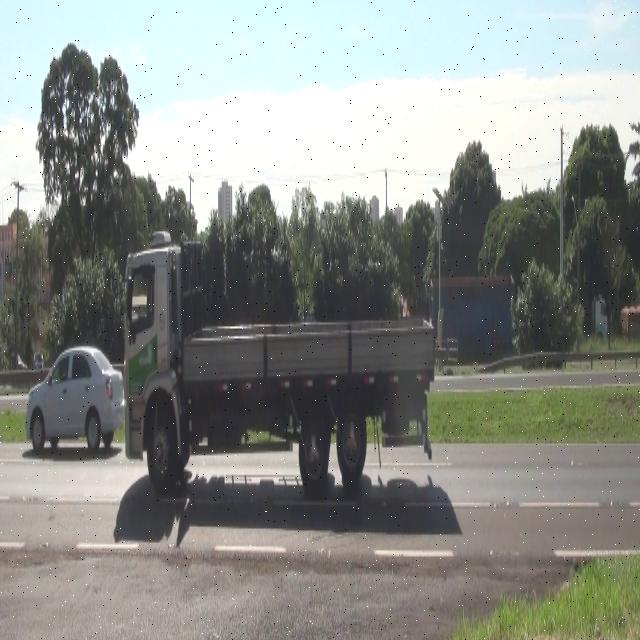-axle: (298, 403, 331, 494), (145, 404, 177, 486), (336, 405, 365, 488)
